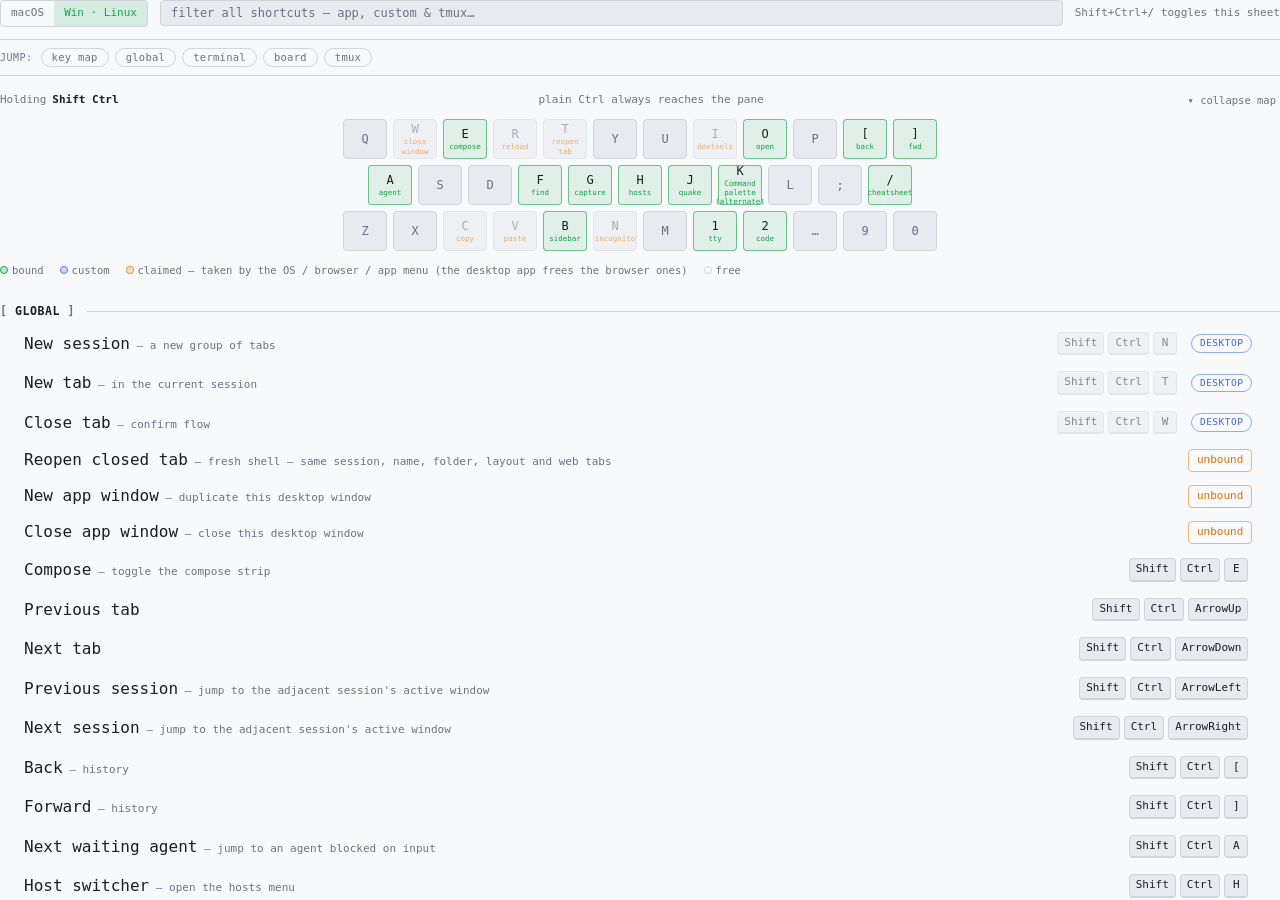
it: SettingsShortcutsPanel › filters rows by the query and hides empty groups
The width and height of the screenshot is (1280, 900).
In the field named "Filter shortcuts": {"x": 611, "y": 13} [160, 0, 1063, 26], type "waiting"
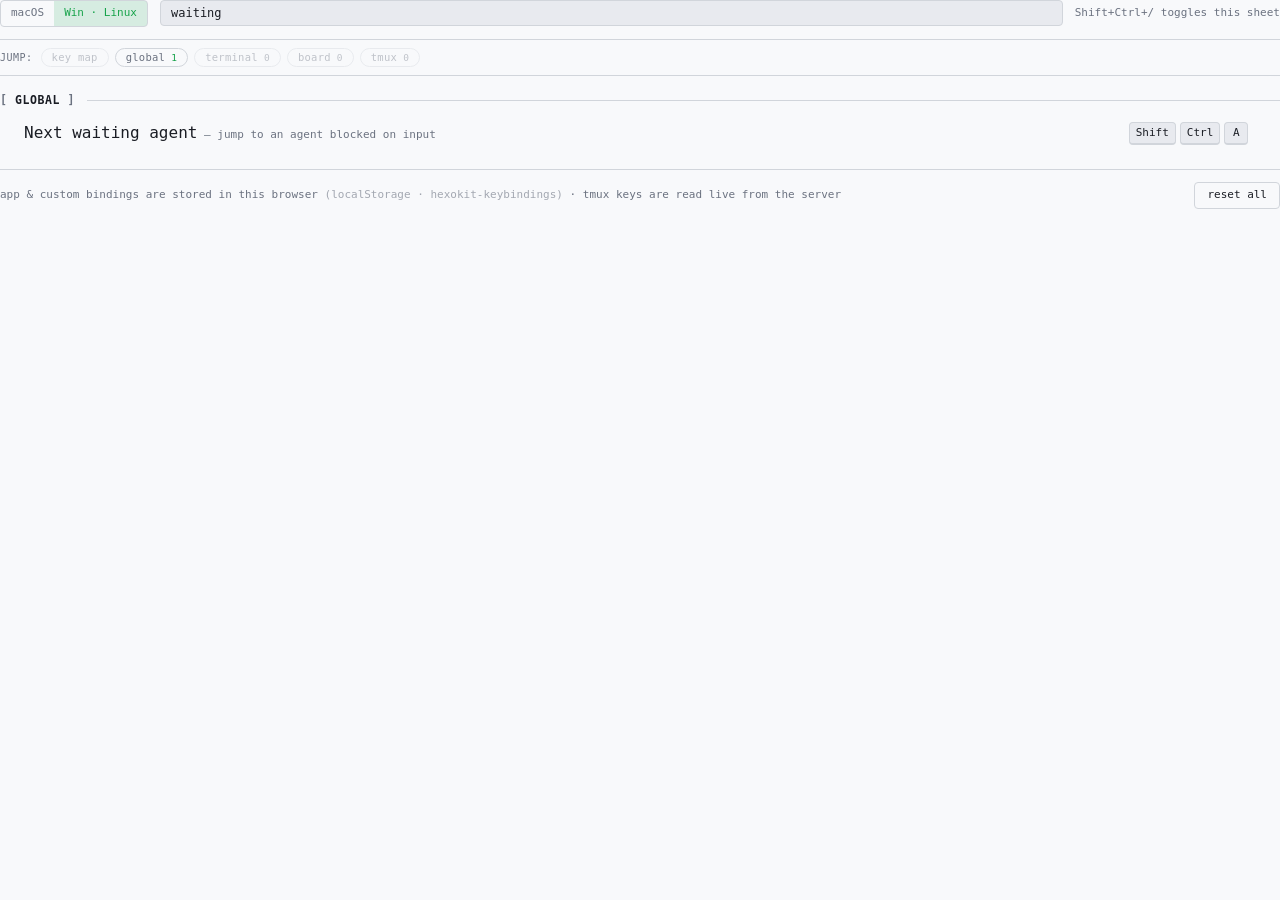
Check: the text "Next waiting agent" is shown, box [24, 123, 197, 142]
Check: the text "New session" is gone
